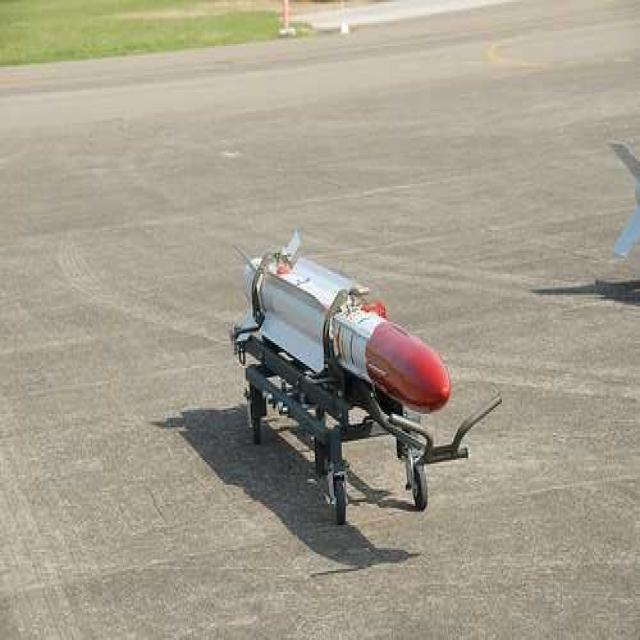missile: (223, 238, 453, 413)
